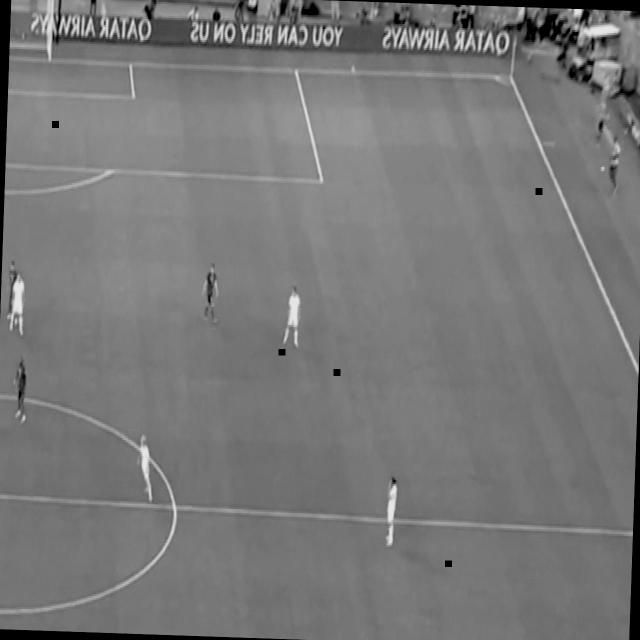ball: (598, 161, 607, 176)
player-white: (136, 433, 156, 506), (281, 284, 303, 350), (8, 270, 28, 337), (11, 354, 30, 424), (200, 262, 220, 326), (384, 474, 398, 546), (5, 258, 17, 323)
